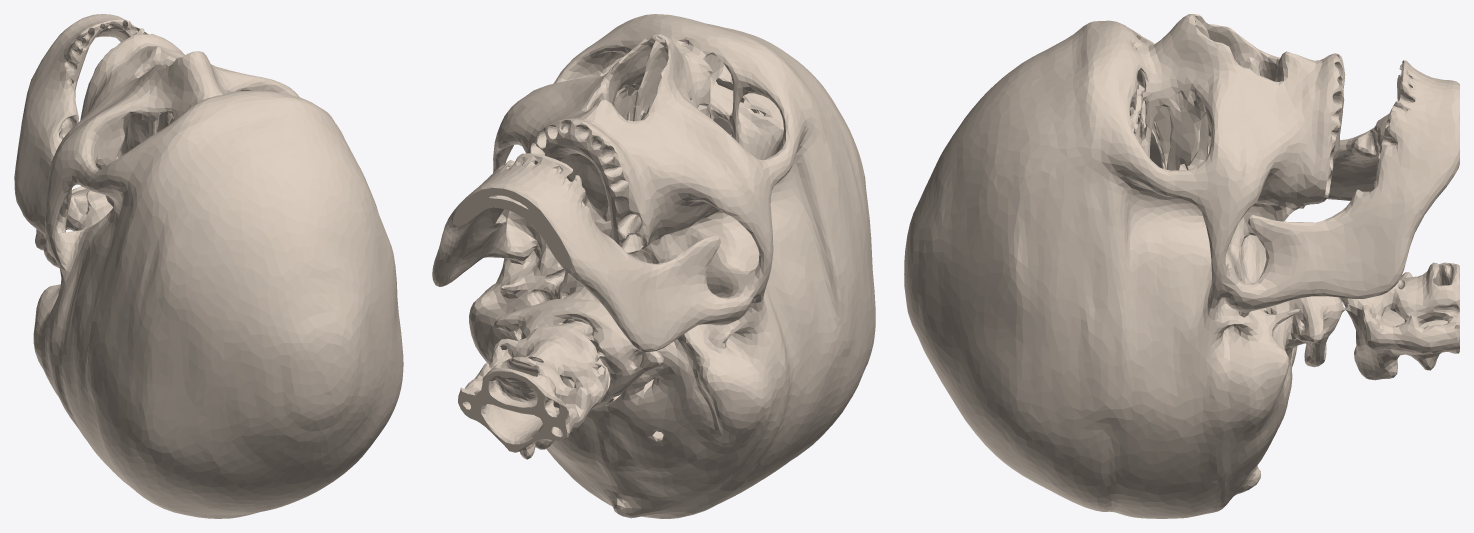
The model's file is ReadSTLWriteGLTF.gltf.
3 renders of one model, left to right at view 1: azimuth 30°, elevation 25°; view 2: azimuth 150°, elevation 25°; view 3: azimuth 270°, elevation 25°, orthographic. The views are drawn at different scales.
Parts seen in each view (by area): view 1: Renderer Node; view 2: Renderer Node; view 3: Renderer Node.
Boxes of the visible parts, x1,y1,x2,y2 form: Renderer Node: (14, 14, 403, 518); Renderer Node: (432, 14, 875, 518); Renderer Node: (904, 14, 1459, 518).
Bounding box in the file's own units: 143 × 209 × 218.
